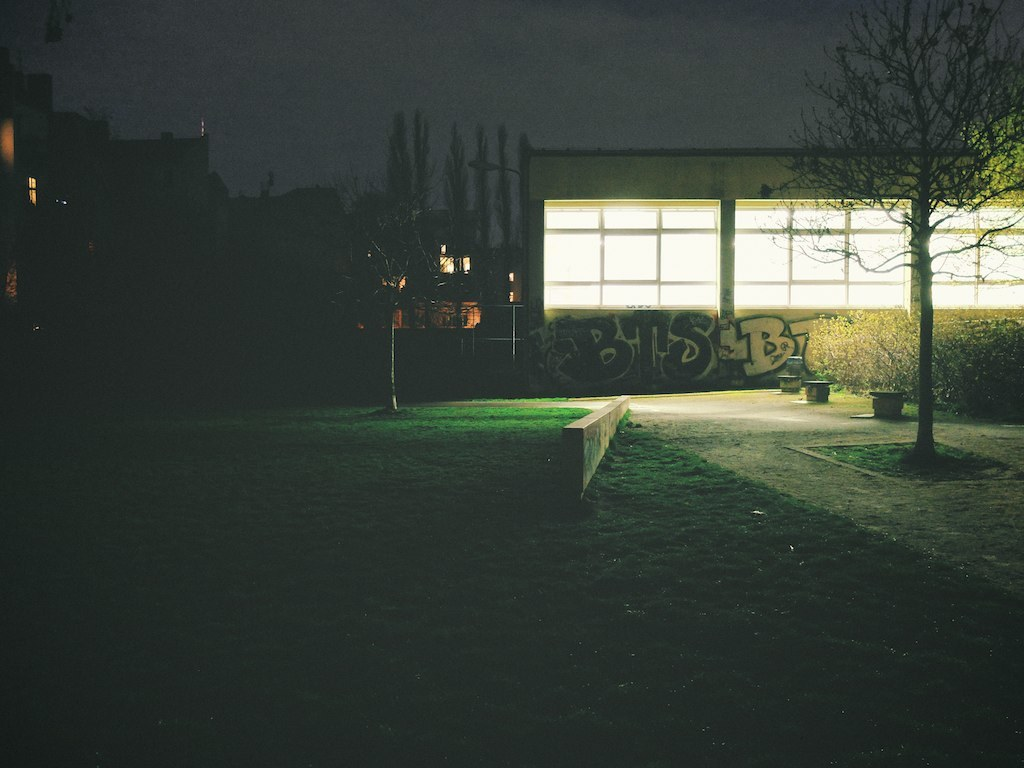Tree: (794, 0, 988, 469), (282, 171, 462, 420)
